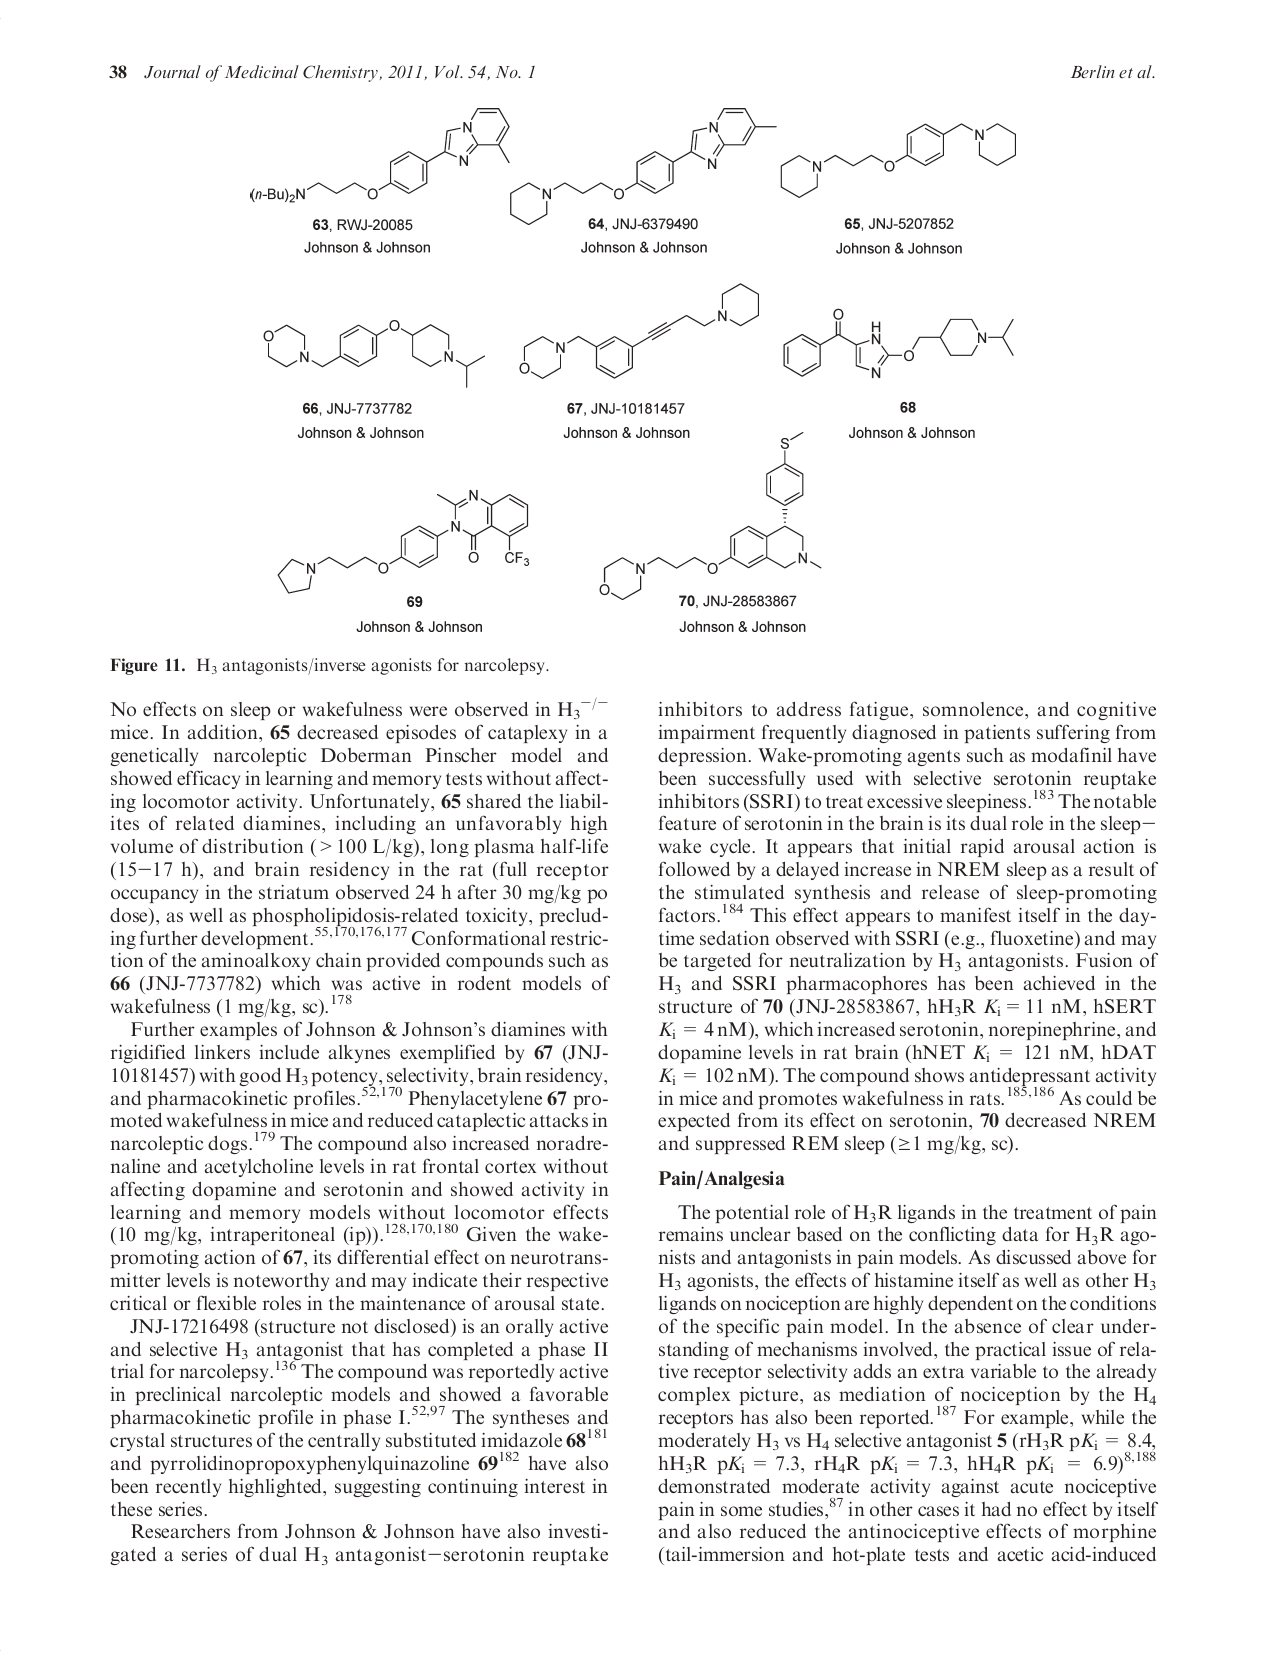exist_molecular: (596, 430, 826, 601), (509, 104, 779, 227), (245, 105, 511, 209), (277, 488, 535, 593), (519, 282, 762, 382), (779, 118, 1021, 199), (781, 305, 1020, 382), (262, 317, 487, 391)
